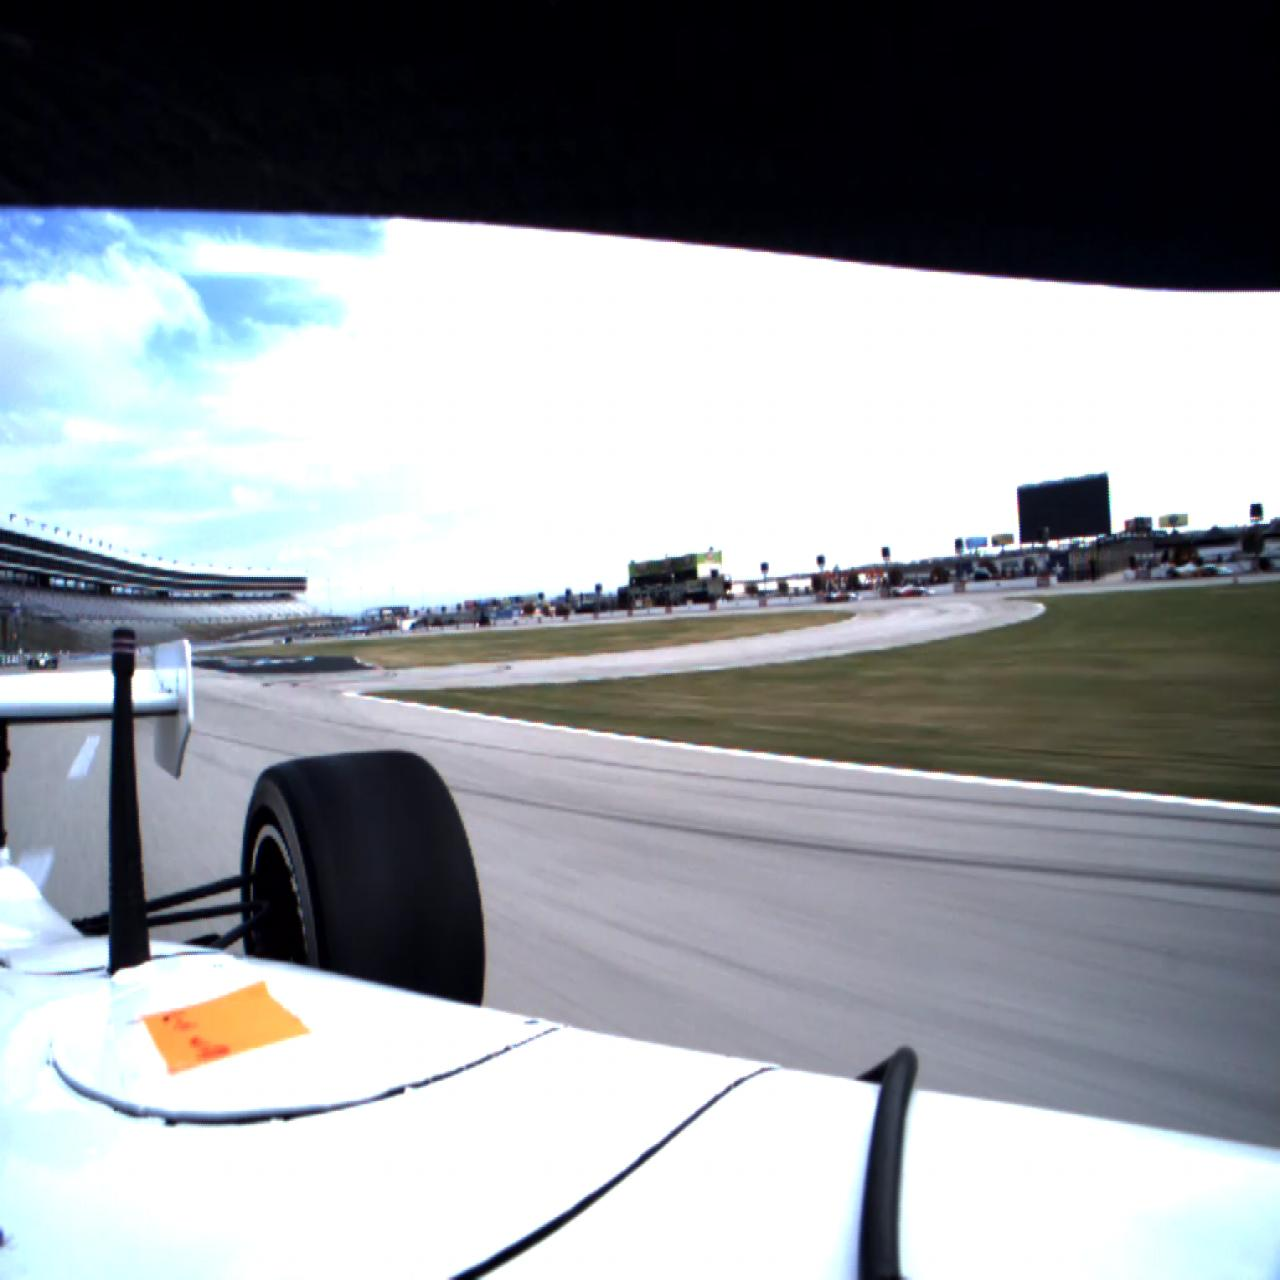AV: (27, 651, 59, 670)
Wheel: (240, 749, 485, 1008)
